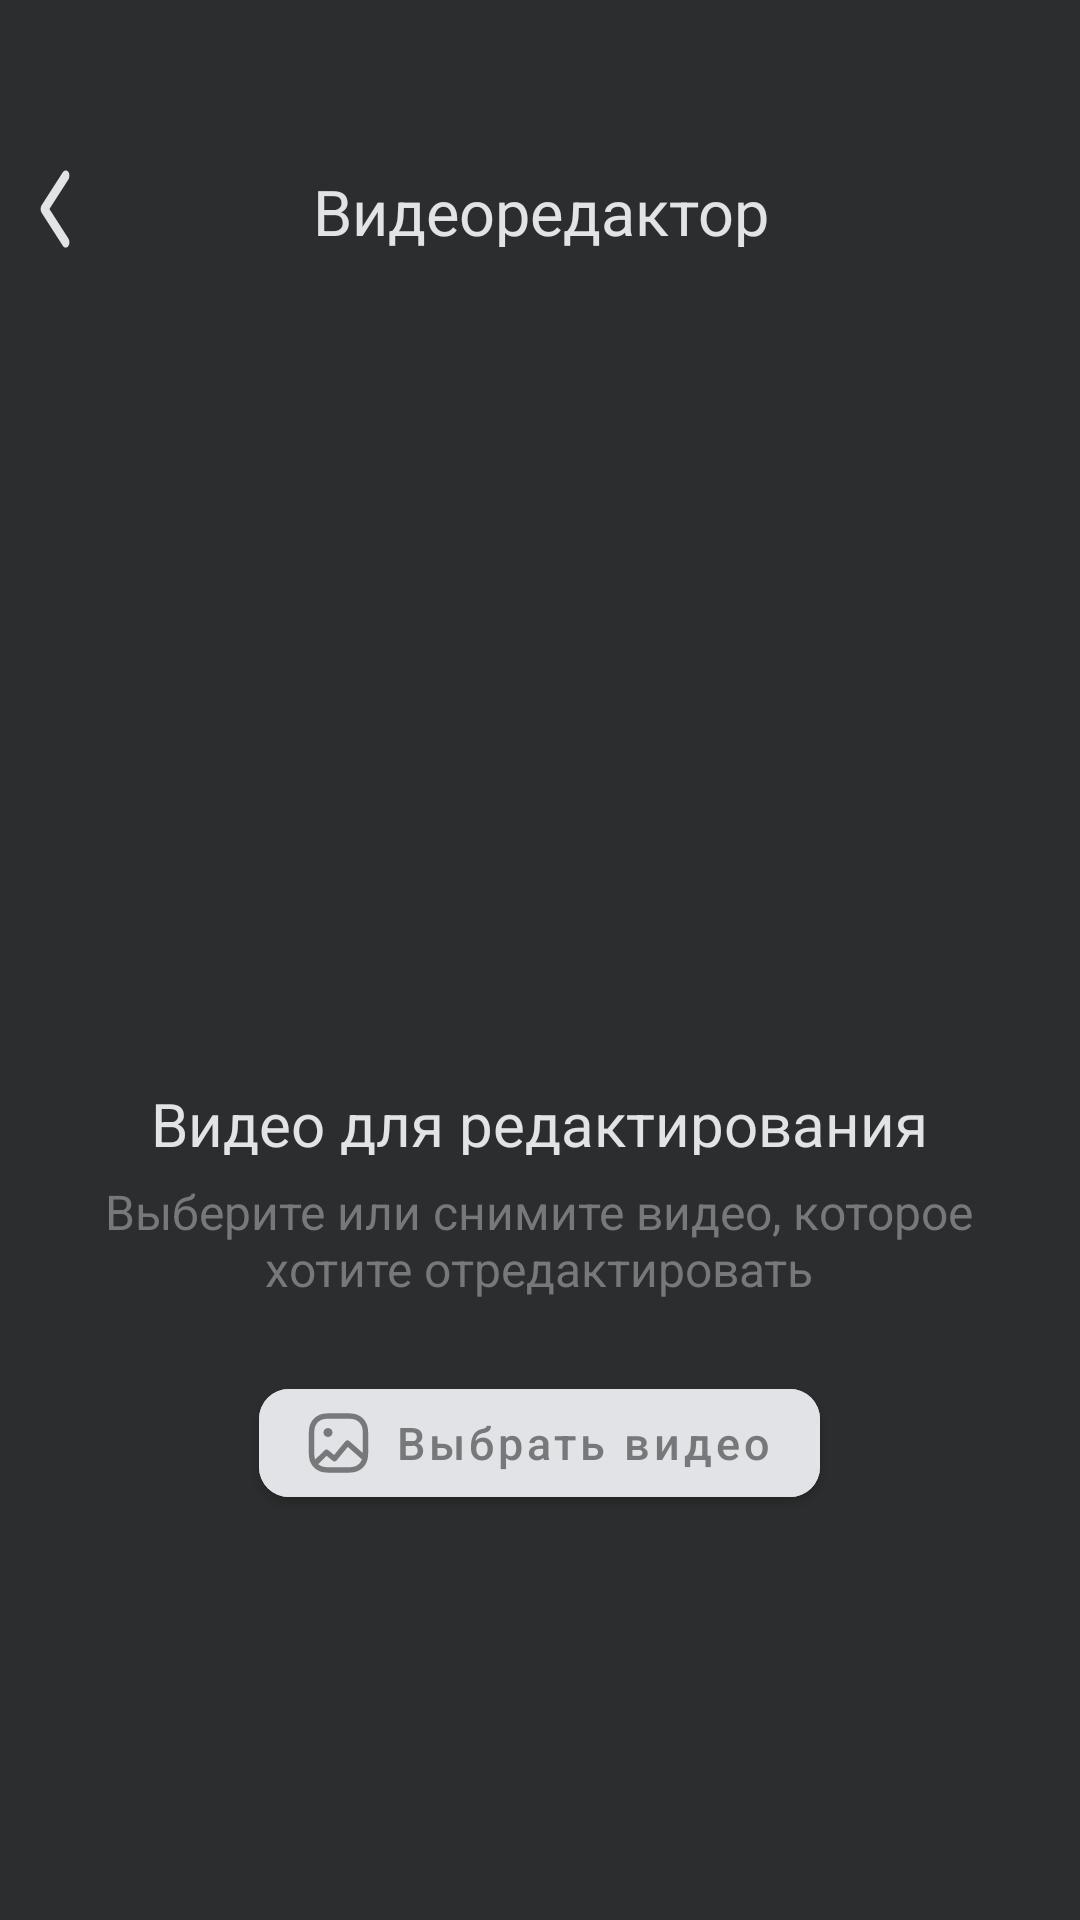

Screen size 1080px×1920px. Icon name, then its box in pixels as {"left": x1, "top": y1, "right": x2, "bottom": y2}:
back: {"left": 40, "top": 170, "right": 70, "bottom": 248}
